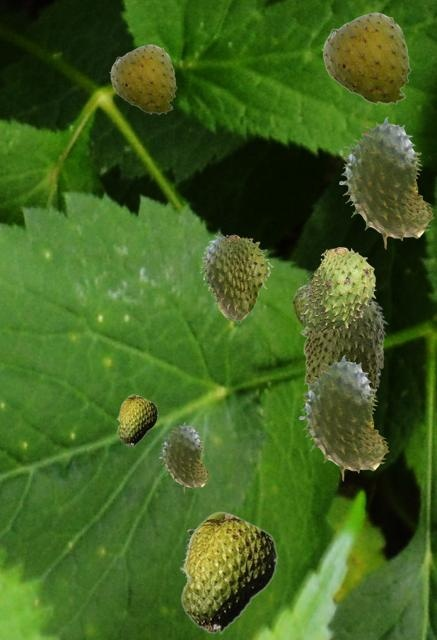guyabano: (339, 117, 433, 248), (179, 511, 277, 634), (299, 355, 388, 480), (300, 298, 387, 398), (321, 12, 410, 105), (299, 247, 375, 333), (200, 234, 272, 322), (109, 44, 176, 114), (159, 422, 209, 492), (116, 394, 157, 446), (293, 284, 308, 327), (182, 529, 194, 582)
